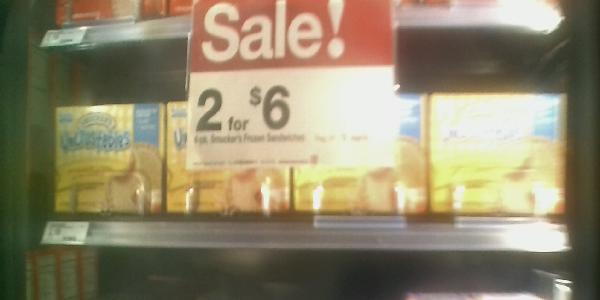icecream: (429, 88, 568, 219), (293, 93, 430, 215), (166, 99, 294, 219), (54, 103, 164, 216)
